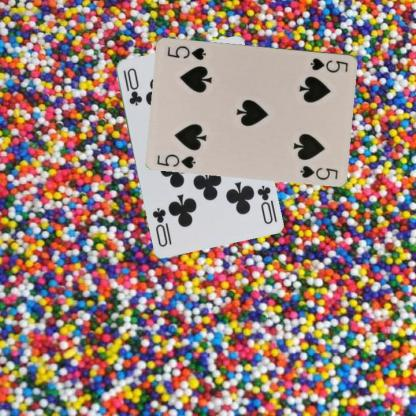10c: (120, 65, 143, 107), (254, 182, 274, 226)
5s: (308, 55, 350, 74), (154, 152, 197, 170)
